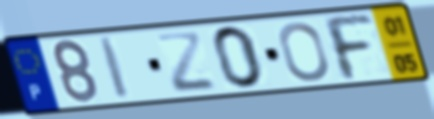0: (210, 24, 268, 91)
8: (52, 37, 99, 106)
F: (318, 13, 377, 84)
I: (96, 35, 134, 101)
O: (277, 20, 332, 84)
Z: (153, 31, 220, 95)
